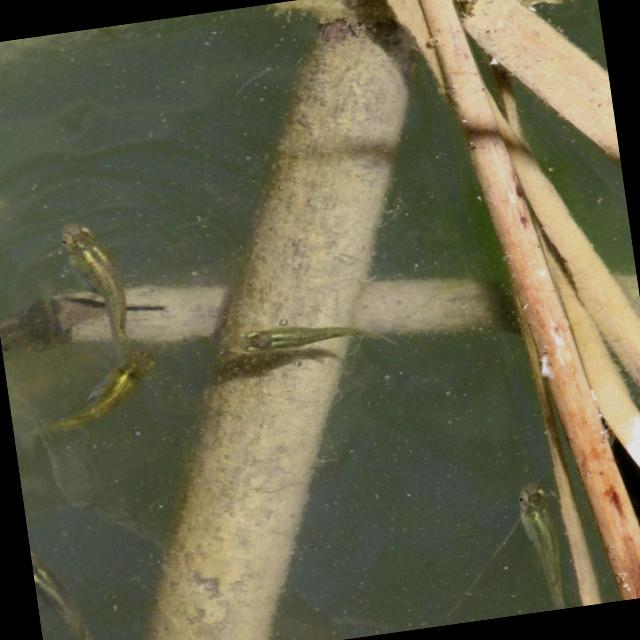Sivrisinek Baligi: (50, 204, 158, 366), (34, 344, 178, 446), (222, 296, 396, 374), (500, 476, 590, 616)
